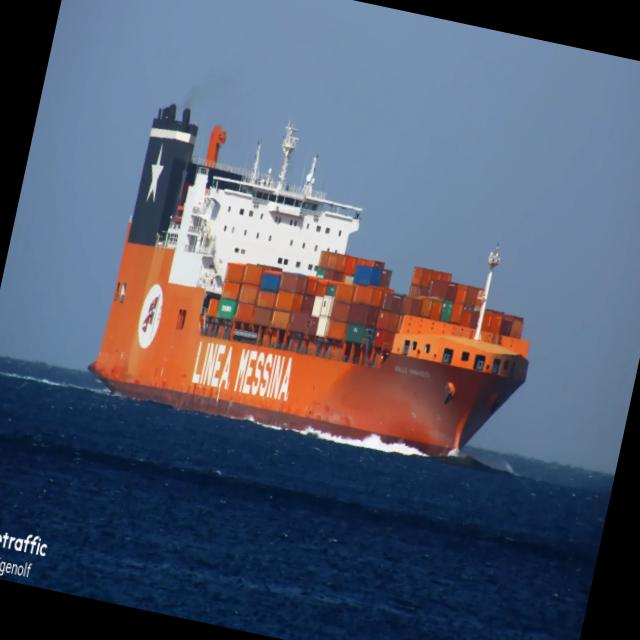Cargo: (89, 105, 529, 454)
